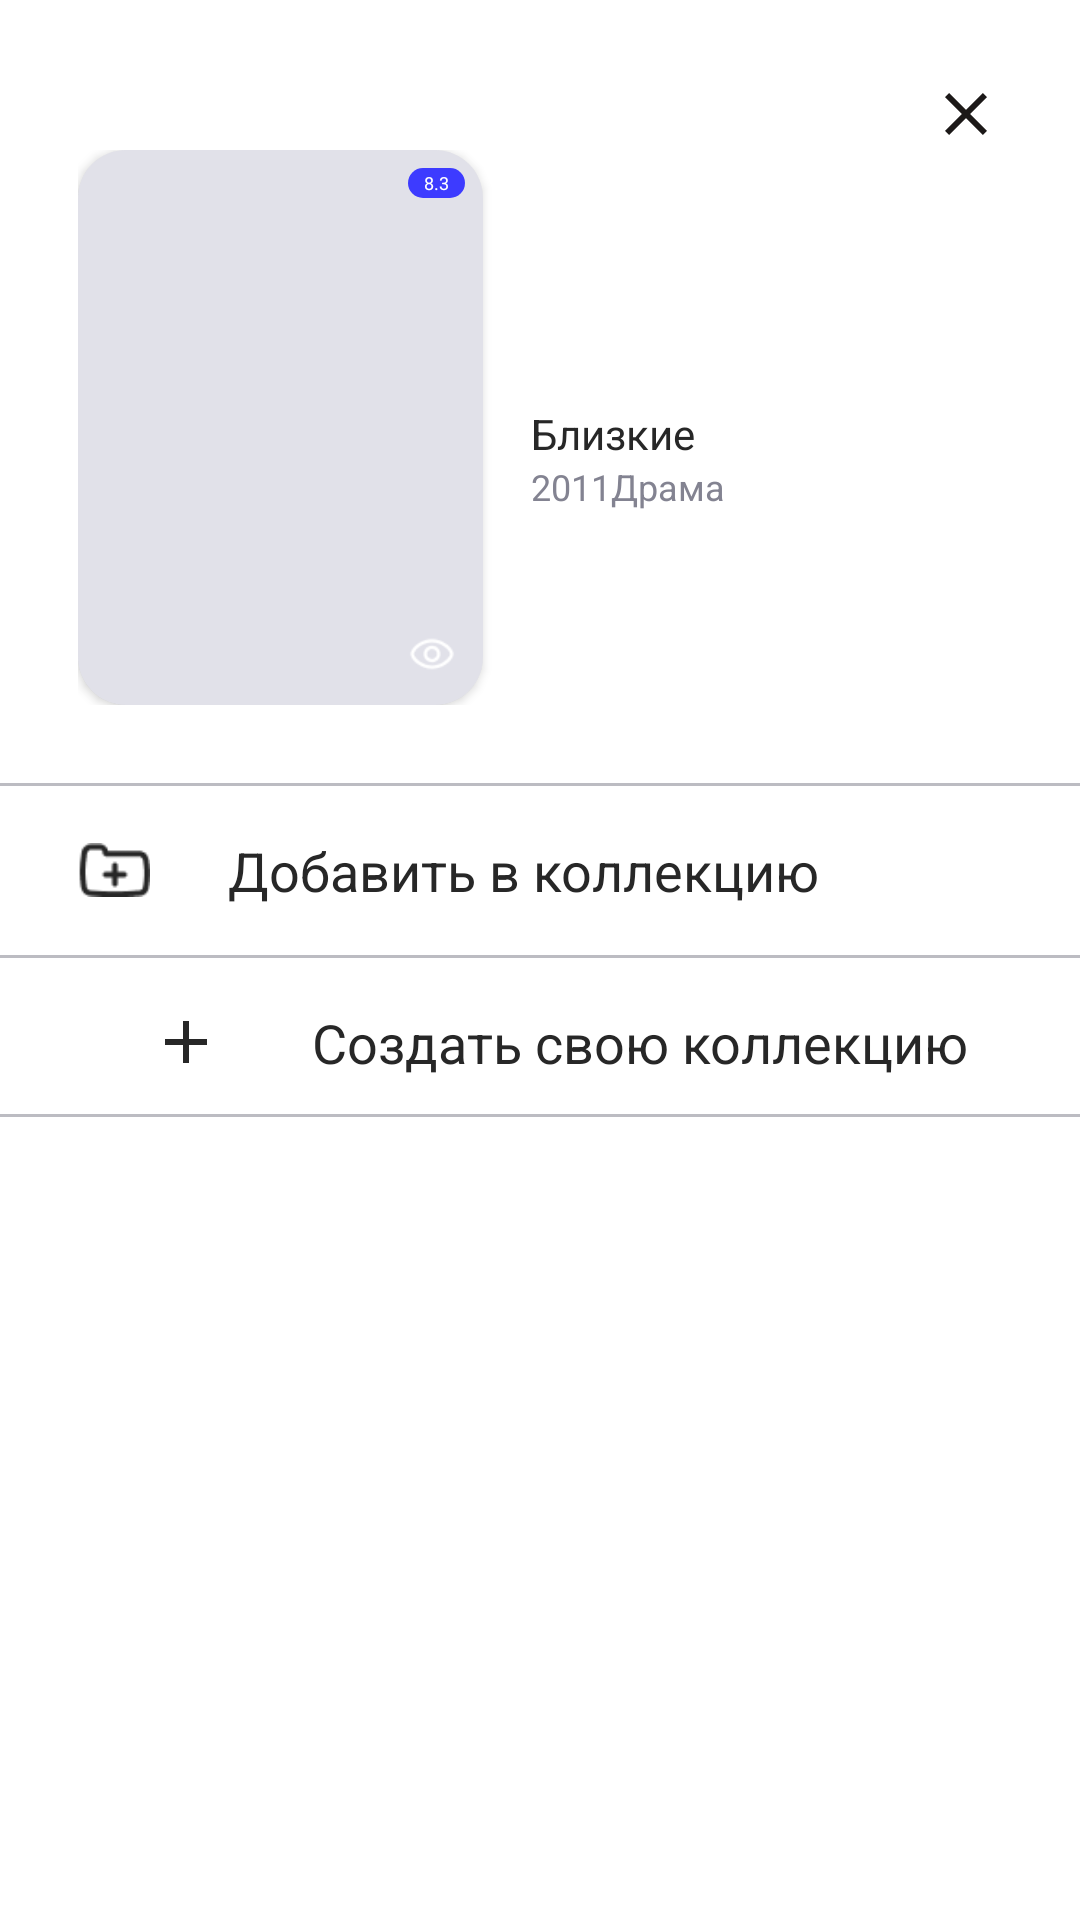

Locate icon controls on the screen. Image size 1080×1920, boxes as [x1, y1, x2, y2].
add: [165, 1021, 207, 1063]
close: [945, 93, 987, 135]
shown: [412, 640, 452, 668]
